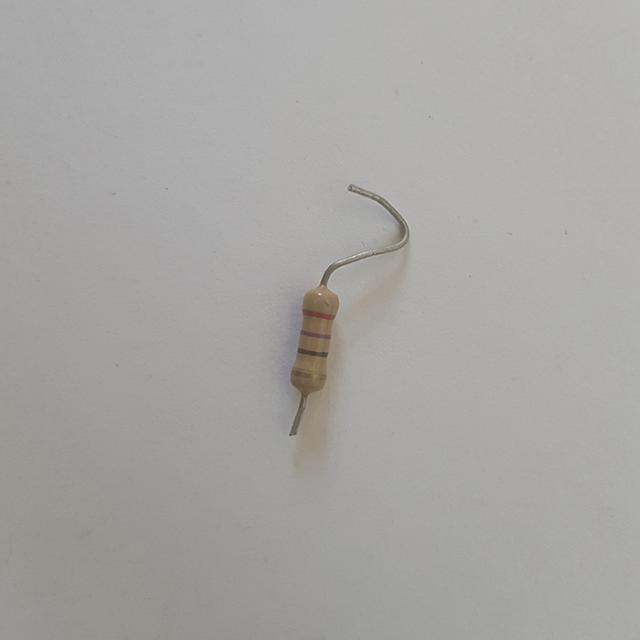black: (298, 347, 326, 356)
gold: (292, 369, 326, 379)
red: (304, 308, 334, 318)
resistor: (283, 287, 347, 401)
violet: (301, 329, 330, 337)
